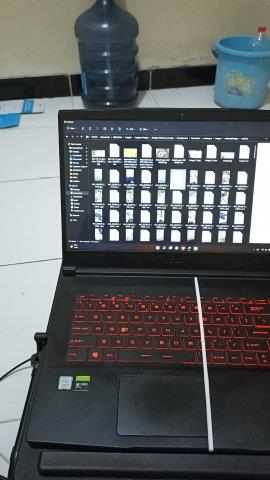sedotan: (194, 277, 213, 451)
